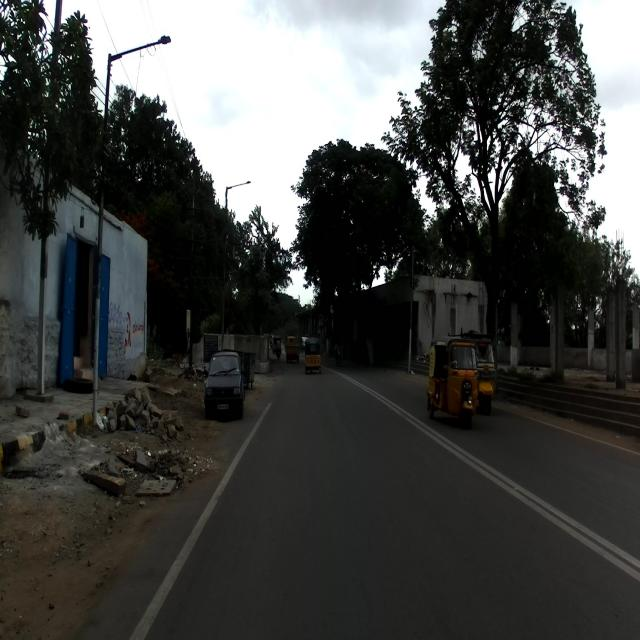autorickshaw: (424, 334, 479, 427), (446, 326, 496, 416)
car: (204, 352, 244, 420)
